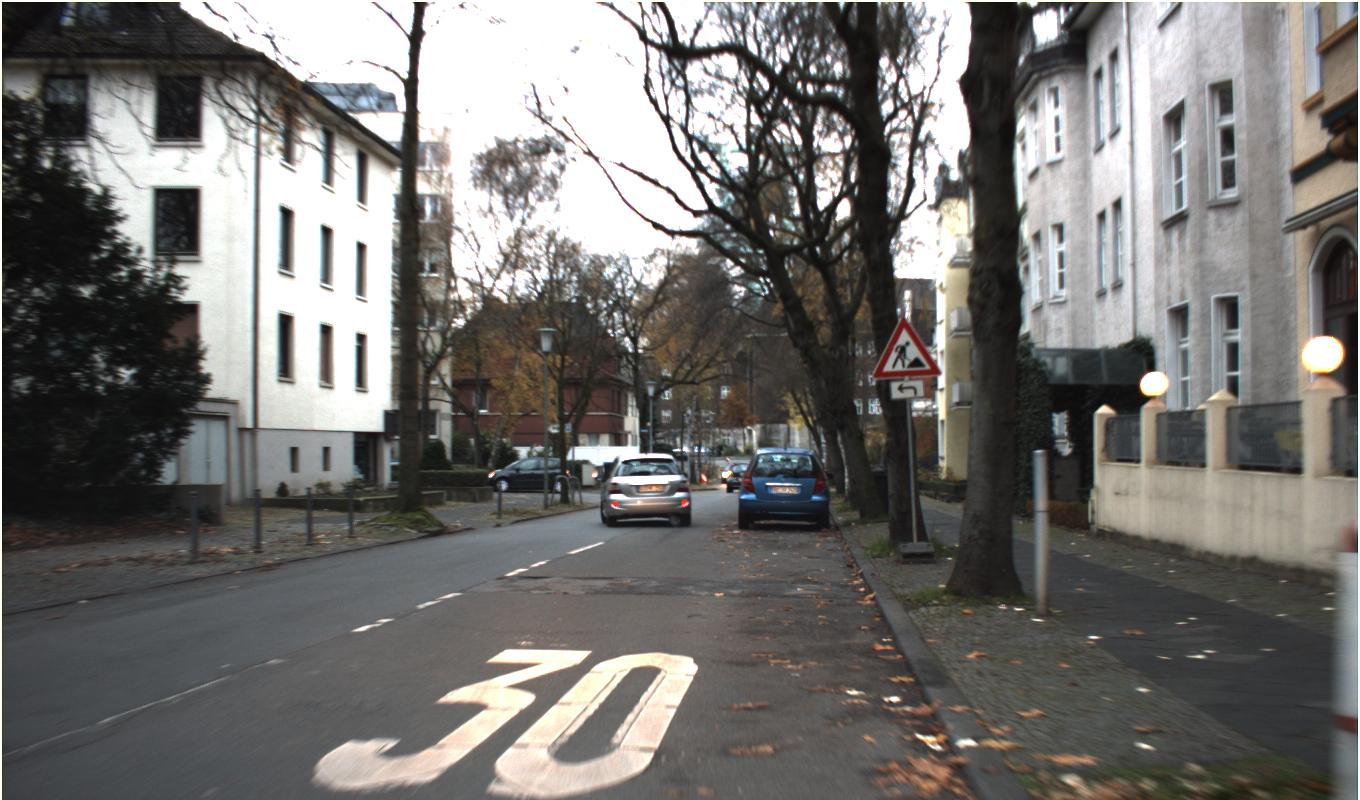danger: (870, 313, 942, 378)
